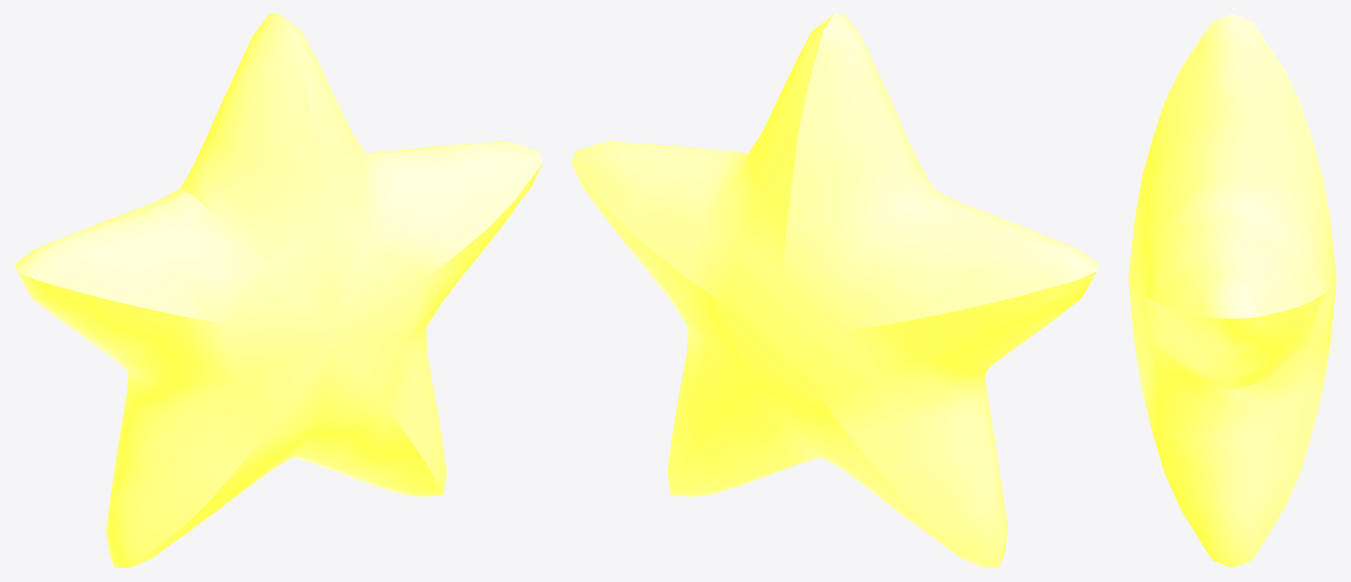
Rendered from Star.glb.
3 views of the same model, side by side, from view 1: azimuth 30°, elevation 25°; view 2: azimuth 150°, elevation 25°; view 3: azimuth 270°, elevation 25° (orthographic). The views are drawn at different scales.
Visible parts, largest first — view 1: Star; view 2: Star; view 3: Star.
Part boxes in pixels (x1,y1,x2,y2): Star: (14,14,542,567); Star: (571,14,1099,567); Star: (1128,14,1336,567).
Size of the model in its own units: 0.2864 by 0.2717 by 0.1064.
